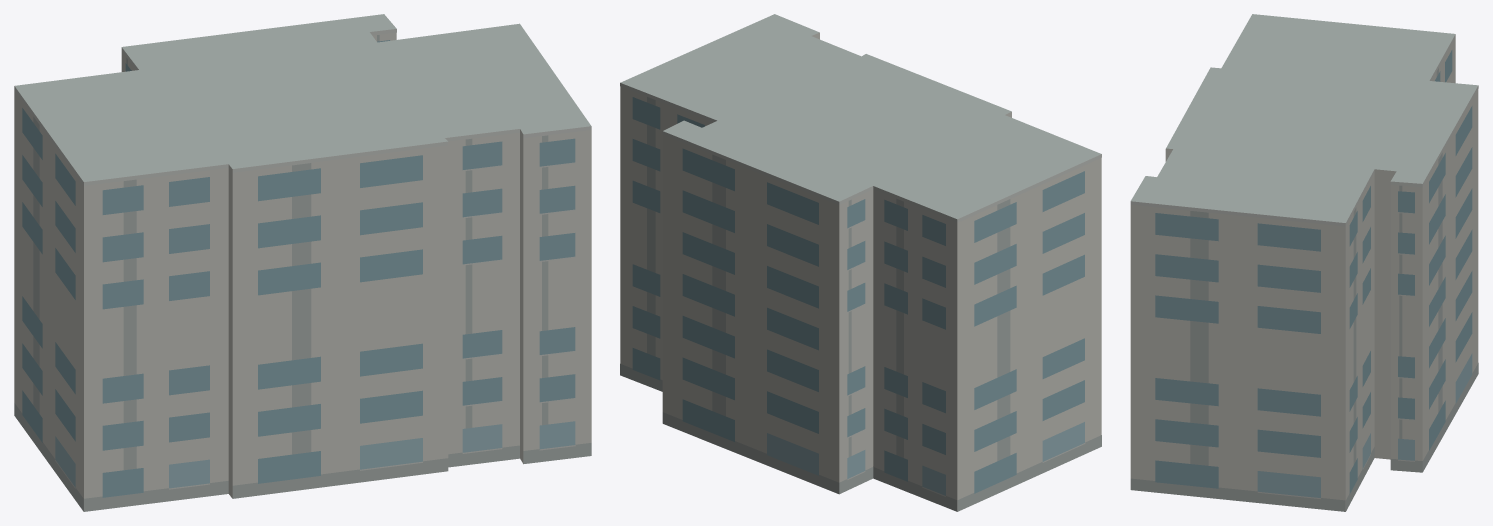
Rendered from survey-upis-32950947.glb.
The picture shows the model from 3 angles, left to right: view 1: azimuth 30°, elevation 25°; view 2: azimuth 150°, elevation 25°; view 3: azimuth 270°, elevation 25°; orthographic projection. The views are drawn at different scales.
Visible parts, largest first — view 1: survey-upis-32950947.tmp; view 2: survey-upis-32950947.tmp; view 3: survey-upis-32950947.tmp.
Part boxes in pixels (x1,y1,x2,y2): survey-upis-32950947.tmp: (14,14,591,511); survey-upis-32950947.tmp: (620,14,1101,511); survey-upis-32950947.tmp: (1130,14,1478,511).
Bounding box in the file's own units: 31.54 × 20.3 × 22.18.
